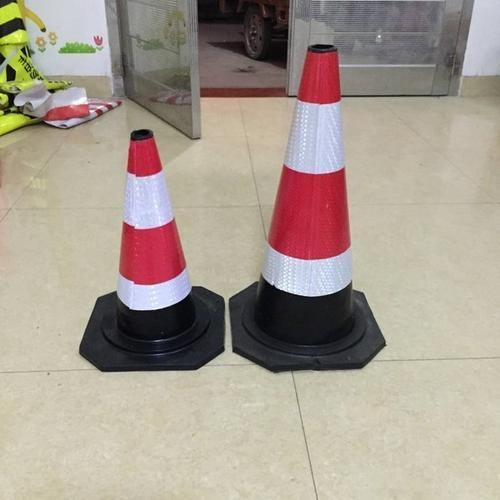cone_barrel: (241, 38, 376, 341), (101, 132, 207, 351)
